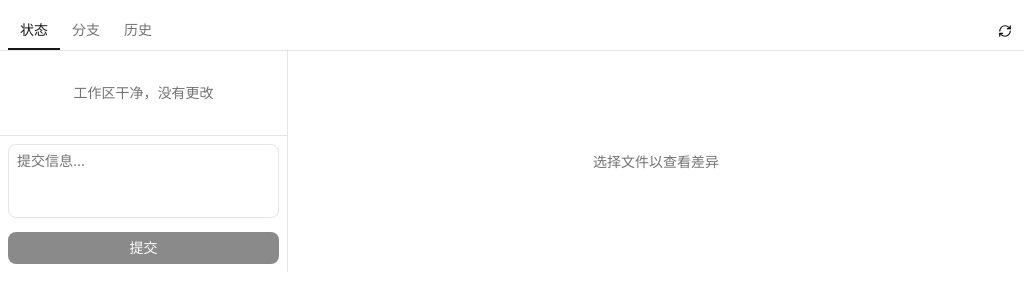
Test: GitPanel › 点击历史 Tab 切换到历史视图
Click the button with test id "tab-history".
click(138, 31)  # box [112, 12, 164, 50]
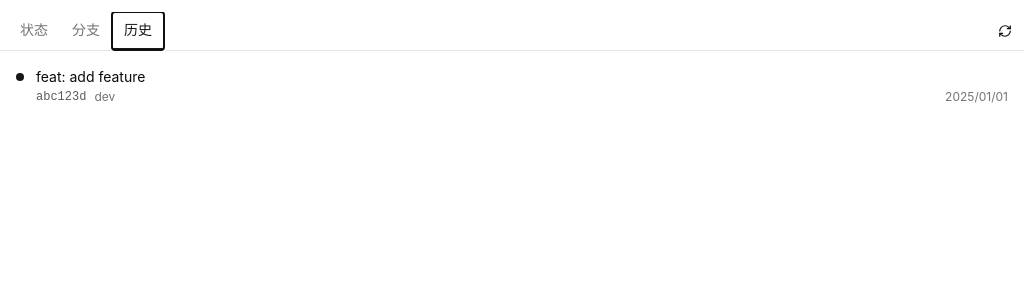
Result: the element with test id "history-tab" is shown at [16, 68, 1008, 104]
